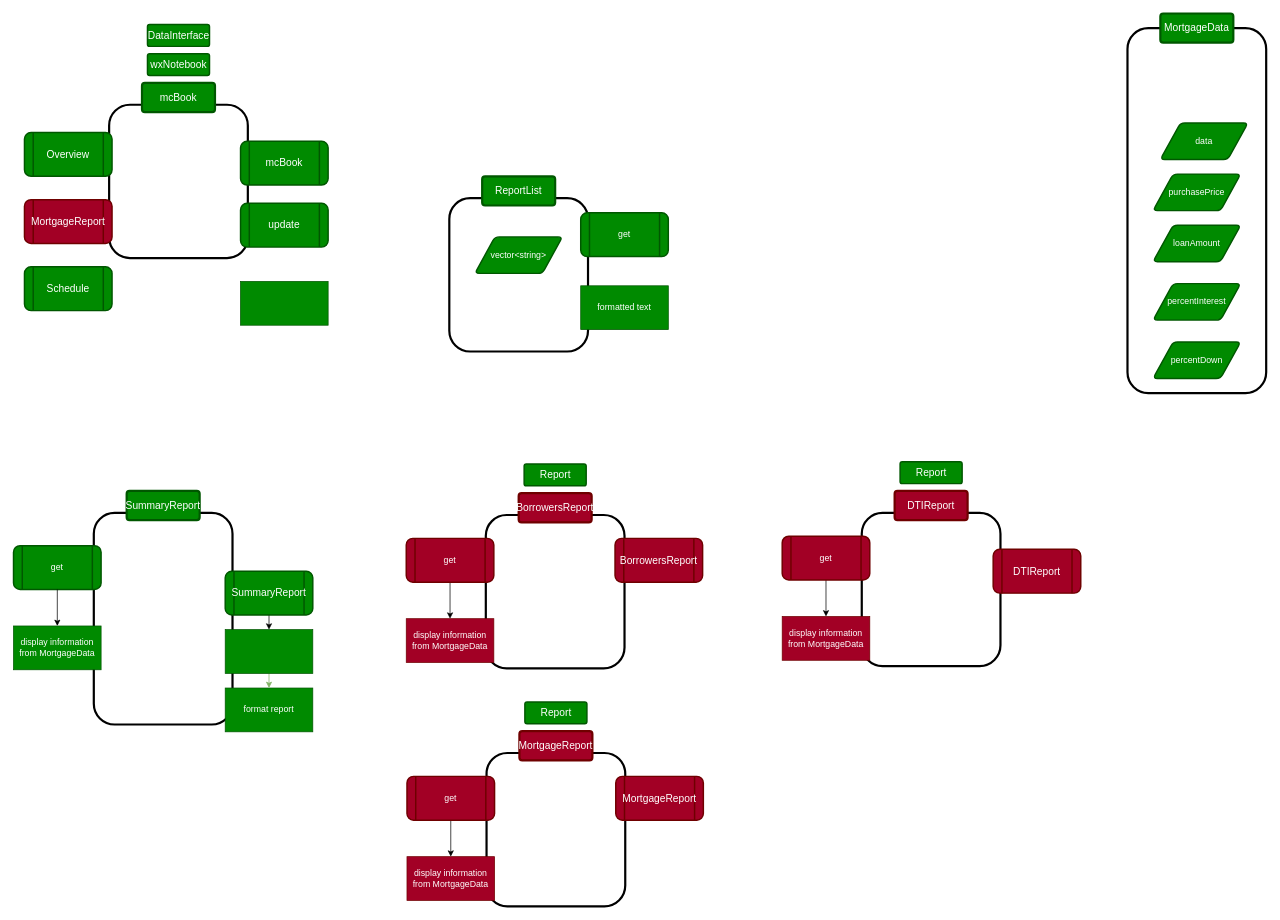
Image size: 1280x920. Some labels were removed from this diagram. The shapes that lost their labels are listed below. From the top down, each one's centre as x and y in pixels, then its label:
At point (284, 303): "recalculates tabs".
At point (268, 651): "takes ref to MortgageData".
